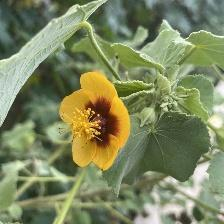indian mallow: (59, 71, 134, 173)
